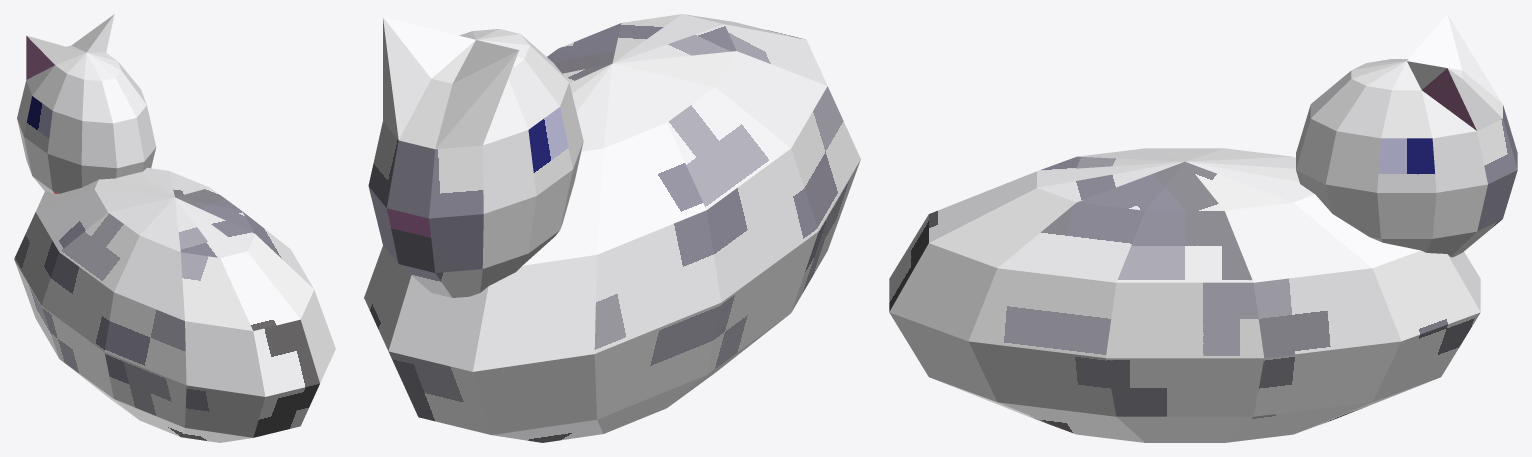
The model's file is beardcatuseable.gltf.
3 views of the same model, side by side, from view 1: azimuth 30°, elevation 25°; view 2: azimuth 150°, elevation 25°; view 3: azimuth 270°, elevation 25° (orthographic). The views are drawn at different scales.
Parts seen in each view (by area): view 1: sphere, sphere.001; view 2: sphere, sphere.001; view 3: sphere, sphere.001.
Part boxes in pixels (left/top/right/bottom): sphere: left=14, top=167, right=335, bottom=442; sphere.001: left=17, top=14, right=156, bottom=193; sphere: left=364, top=14, right=860, bottom=442; sphere.001: left=368, top=17, right=583, bottom=297; sphere: left=889, top=148, right=1480, bottom=442; sphere.001: left=1296, top=14, right=1517, bottom=257.
Bounding box in the file's own units: 0.5 × 0.6914 × 1.06.
1 material, 1 textured.
